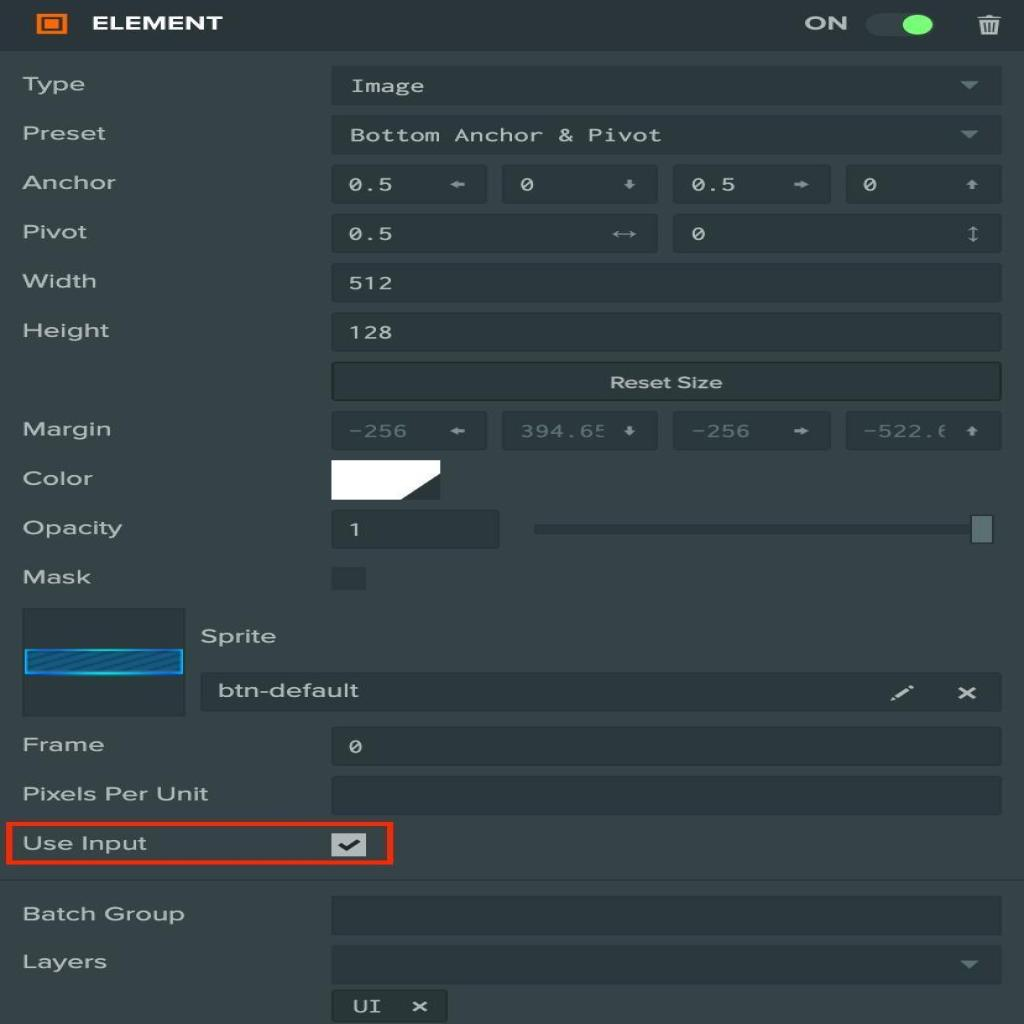button: (328, 359, 1006, 403)
checkbox: (332, 566, 370, 590)
dropdown: (327, 939, 1009, 987), (329, 111, 1004, 159), (328, 62, 1004, 108)
icon: (972, 7, 1006, 42), (884, 681, 920, 706), (951, 683, 986, 708)
input: (328, 890, 1006, 939), (328, 724, 1004, 768), (329, 260, 1004, 304), (329, 312, 1003, 355), (328, 775, 1002, 816), (676, 212, 1002, 252), (333, 214, 654, 252)
label: (24, 906, 183, 926), (22, 786, 210, 802), (21, 519, 124, 541), (22, 835, 147, 853), (93, 16, 225, 31), (22, 420, 112, 440), (22, 322, 112, 341), (22, 175, 118, 191), (24, 954, 108, 972), (24, 737, 105, 754), (22, 470, 95, 487), (24, 126, 108, 140), (22, 76, 87, 94), (22, 273, 98, 288), (22, 569, 92, 585), (24, 224, 89, 240), (805, 14, 850, 33)
switch: (868, 11, 936, 38)
